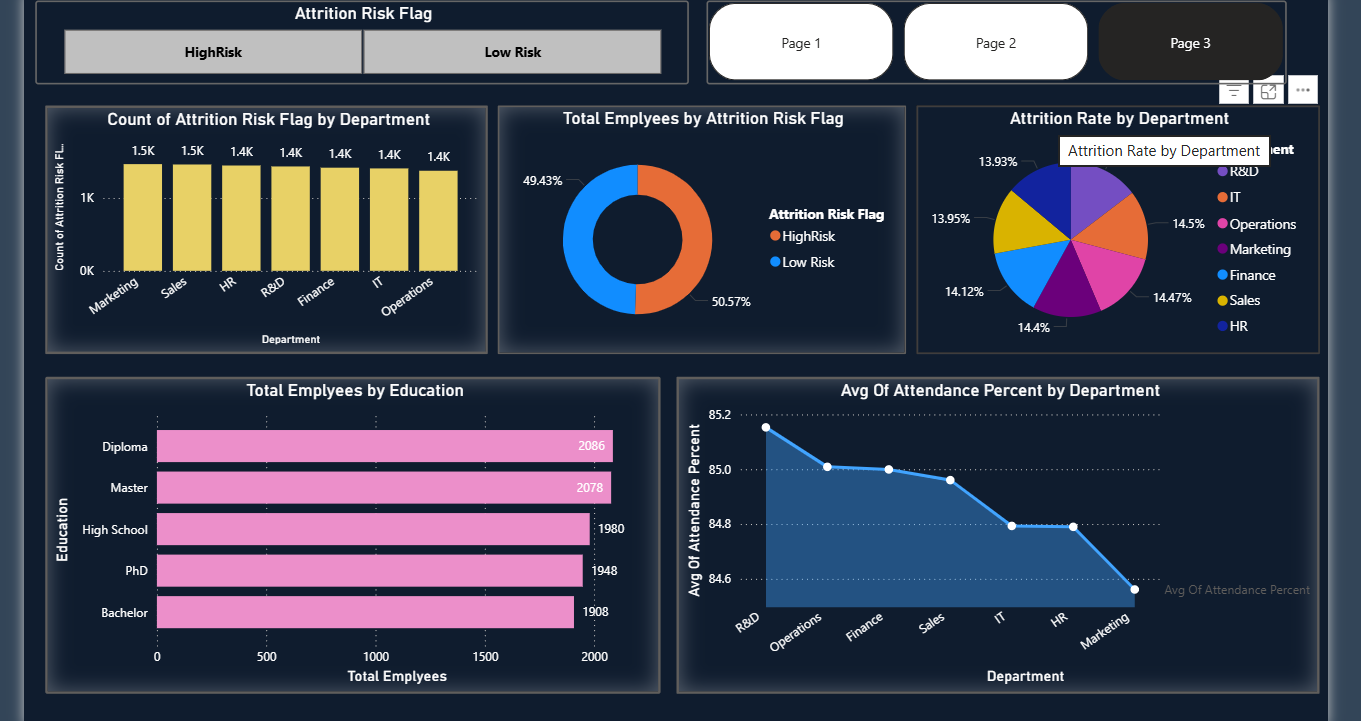

Layout of this report page (visuals, bound fields, positions):
{"tool":"powerbi","page":{"name":"Page 3","canvas":[1280,720],"ordinal":2},"visuals":[{"type":"stackedAreaChart","fields":{"Category":["Employee_Data.Department"],"Y":["Employee_Data.Avg Of Attendance Percent"]},"box":[640,376.2,631.2,311.2],"z":0},{"type":"clusteredBarChart","fields":{"Category":["Employee_Data.Education"],"Y":["Employee_Data.Total Emplyees"]},"box":[21.2,376.2,603.8,311.2],"z":1000},{"type":"pieChart","fields":{"Category":["Employee_Data.Department"],"Y":["Employee_Data.Attribution Rate"]},"box":[875.7,110,395.7,244.3],"z":2000},{"type":"donutChart","fields":{"Category":["Employee_Data.Attrition Risk Flag"],"Y":["Employee_Data.M Total Emplyees"]},"box":[465.2,110.7,400.6,243.8],"z":3000},{"type":"clusteredColumnChart","fields":{"Category":["Employee_Data.Department"],"Y":["CountNonNull(Employee_Data.Attrition Risk Flag)"]},"box":[21.4,110,434.3,244.3],"z":4000},{"type":"slicer","title":"Attrition Risk Flag","fields":{"Values":["Employee_Data.Attrition Risk Flag"]},"box":[11.2,7.5,641.2,82.5],"z":5000},{"type":"pageNavigator","box":[670.5,7.5,569.7,82.1],"z":6000}]}

Visuals, with their boxes on the page's 1280x720 design canvas (x1, y1, x2, y2). These are canvas units, not pixel positions in the 1361x721 screenshot, which may show the page scaled, cropped or inside an application window:
stackedAreaChart - Employee_Data.Department x Employee_Data.Avg Of Attendance Percent: <bbox>640, 376, 1271, 687</bbox>
clusteredBarChart - Employee_Data.Education x Employee_Data.Total Emplyees: <bbox>21, 376, 625, 687</bbox>
pieChart - Employee_Data.Department x Employee_Data.Attribution Rate: <bbox>876, 110, 1271, 354</bbox>
donutChart - Employee_Data.Attrition Risk Flag x Employee_Data.M Total Emplyees: <bbox>465, 111, 866, 354</bbox>
clusteredColumnChart - Employee_Data.Department x CountNonNull(Employee_Data.Attrition Risk Flag): <bbox>21, 110, 456, 354</bbox>
"Attrition Risk Flag" slicer: <bbox>11, 8, 652, 90</bbox>
pageNavigator: <bbox>670, 8, 1240, 90</bbox>
